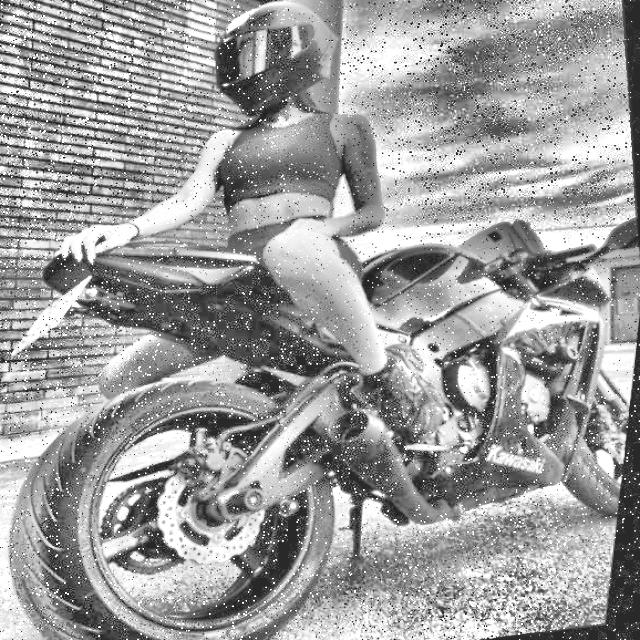Helmet: (195, 0, 362, 130)
